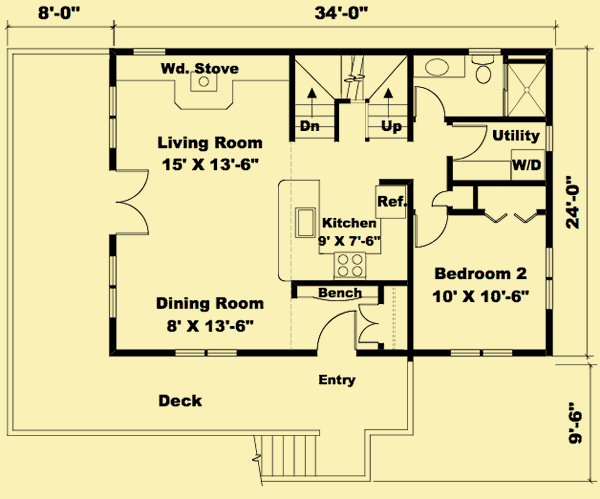door: (113, 169, 149, 236), (314, 307, 355, 356), (445, 121, 489, 164), (414, 213, 450, 249), (413, 83, 445, 123), (356, 302, 382, 347), (428, 186, 449, 209)
large_sink: (469, 53, 496, 89)
small_sink: (411, 52, 468, 82)
stairs: (293, 52, 409, 145), (246, 427, 373, 486)
window: (106, 86, 119, 152), (543, 246, 556, 312), (446, 349, 518, 360), (172, 348, 240, 359), (109, 255, 118, 321), (129, 47, 169, 59)
